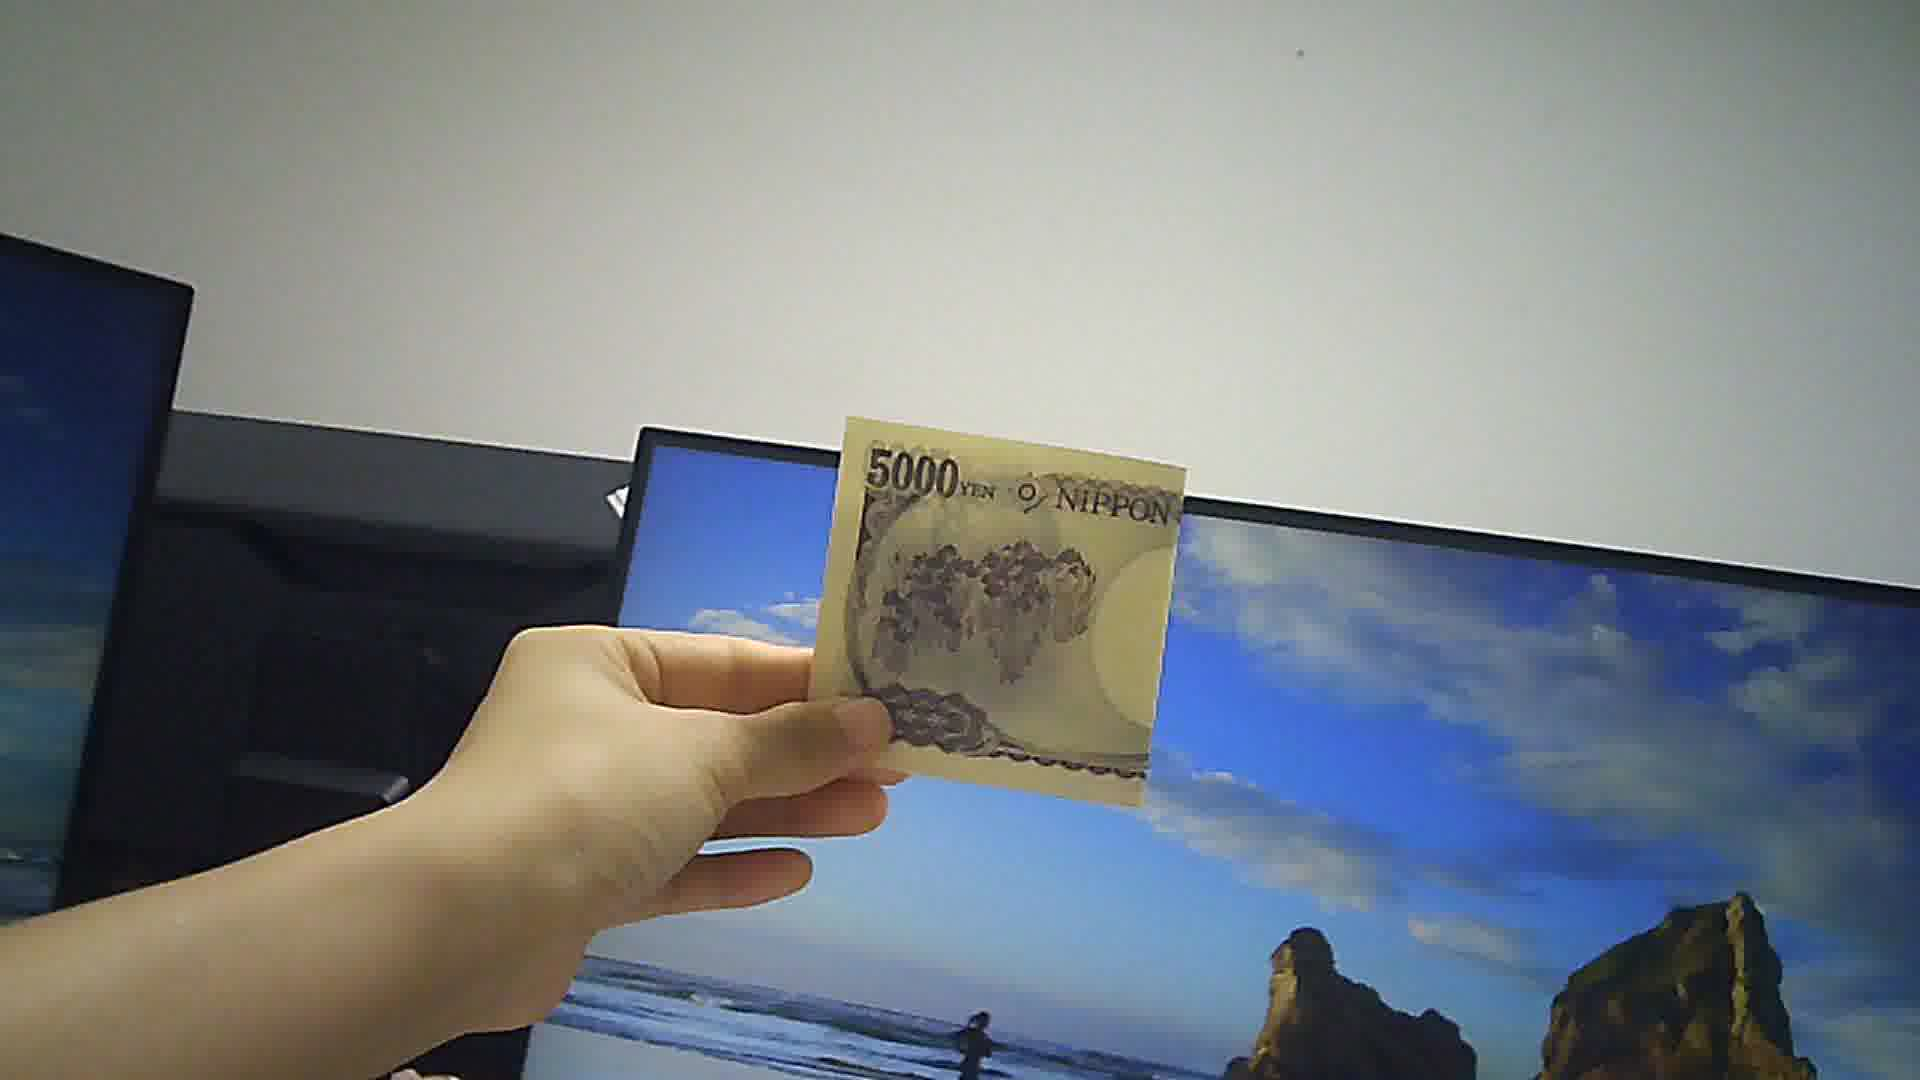5,000 Yen: (796, 401, 1189, 812)
